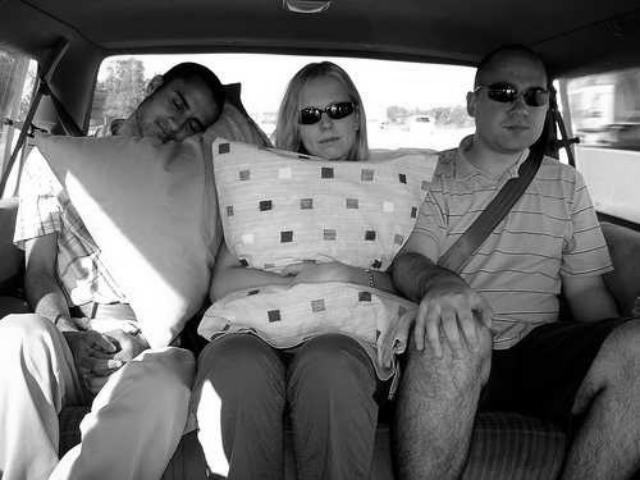Seatbelt: (434, 148, 544, 274)
